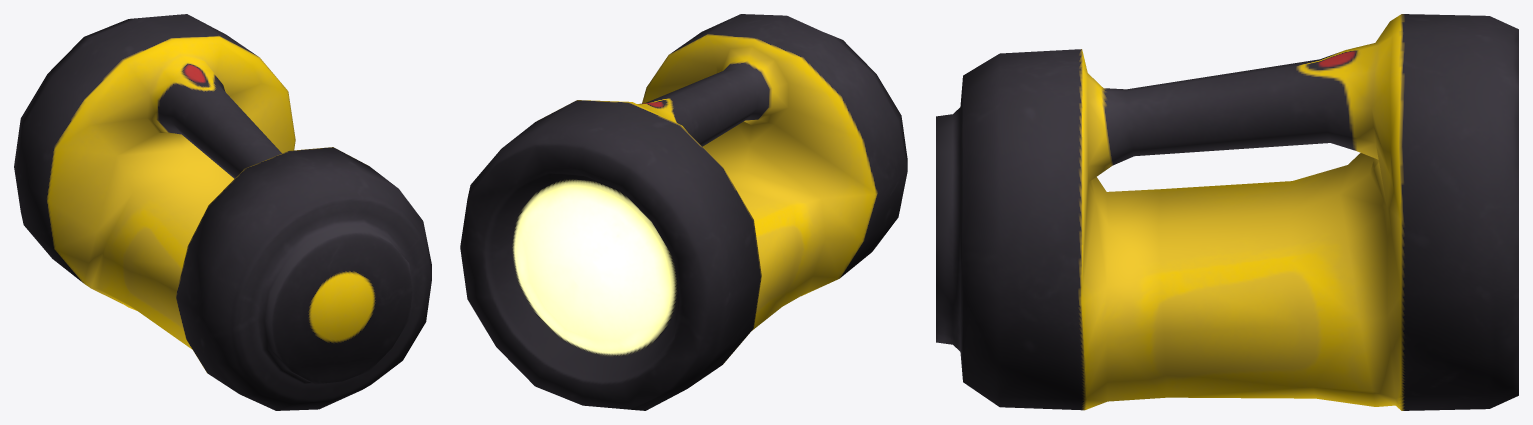
Rendered from Modern_Large_FlashLight.fbx.
3 renders of one model, left to right at view 1: azimuth 30°, elevation 25°; view 2: azimuth 150°, elevation 25°; view 3: azimuth 270°, elevation 25°, orthographic. The views are drawn at different scales.
Visible parts, largest first — view 1: Large_FlashLight; view 2: Large_FlashLight; view 3: Large_FlashLight.
Part boxes in pixels (box(x1,y1,x2,y2)): Large_FlashLight: box(14, 14, 431, 410); Large_FlashLight: box(460, 14, 907, 410); Large_FlashLight: box(936, 14, 1518, 410).
Bounding box in the file's own units: 23.5 × 23.78 × 35.11.
